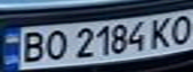1: (93, 22, 112, 56)
2: (72, 25, 96, 60)
4: (127, 18, 151, 52)
8: (109, 21, 133, 55)
B: (15, 29, 48, 64)
K: (145, 15, 175, 49)
O: (39, 28, 69, 62), (166, 12, 193, 45)
